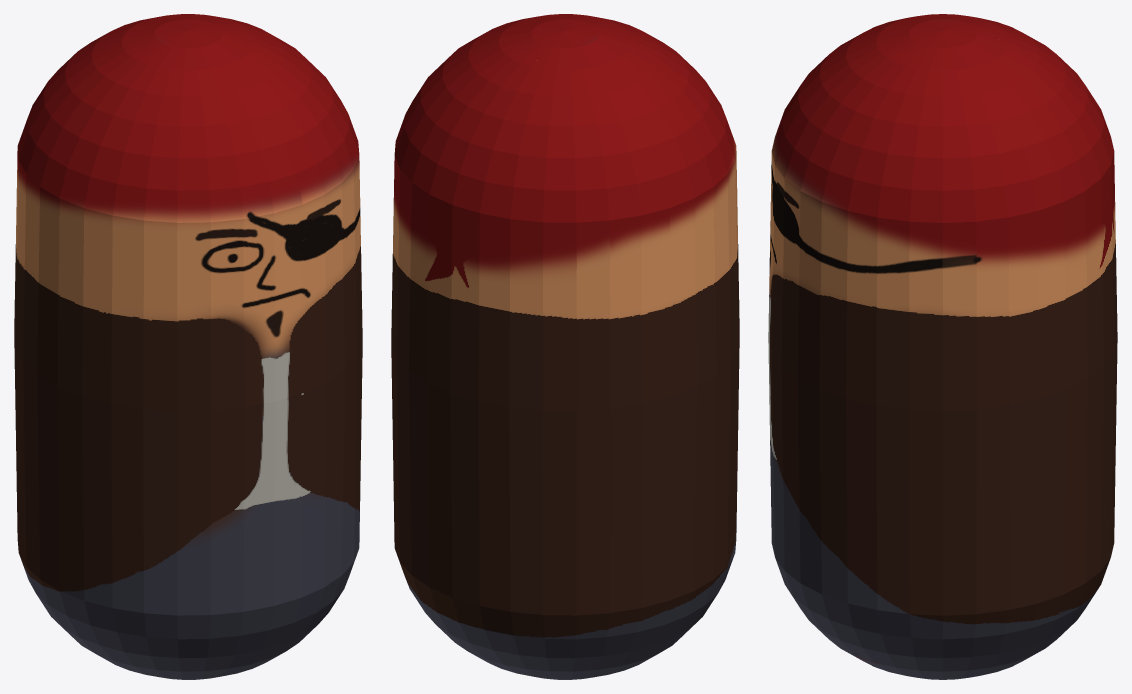
File: pillbeard.glb
3 views of the same model, side by side, from view 1: azimuth 30°, elevation 25°; view 2: azimuth 150°, elevation 25°; view 3: azimuth 270°, elevation 25° (orthographic).
Parts seen in each view (by area): view 1: Sphere; view 2: Sphere; view 3: Sphere.
Part boxes in pixels (x1,y1,x2,y2): Sphere: [14, 14, 362, 679]; Sphere: [391, 14, 739, 679]; Sphere: [768, 14, 1117, 679].
Size of the model in its own units: 0.9576 by 1.91 by 0.9576.
Materials: 1 (1 with a texture image).
